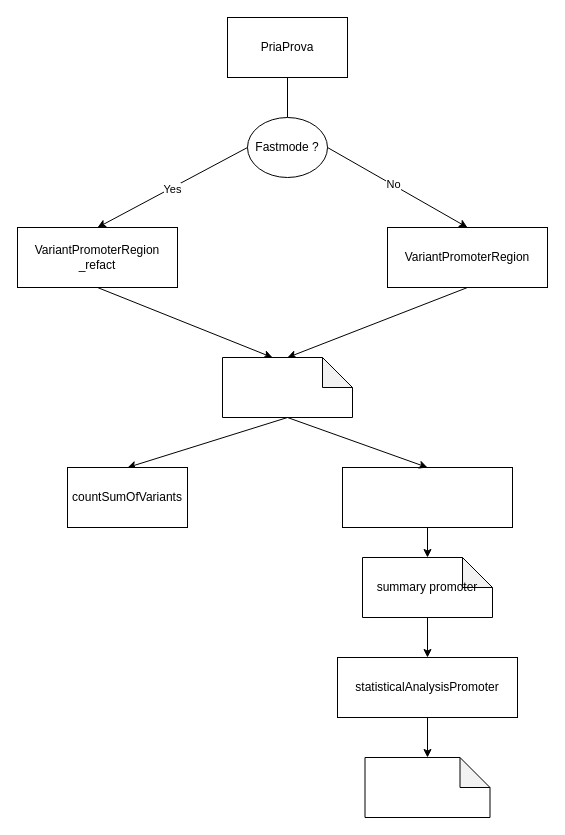
This 565x835 diagram has some shape labels left out. Here are the shapes that lost their labels. From the top down, the centre of each, then its label:
At point (287, 387): "filtered vcfs".
At point (427, 497): "summaryPromoterResults".
At point (427, 787): "statistical result".
